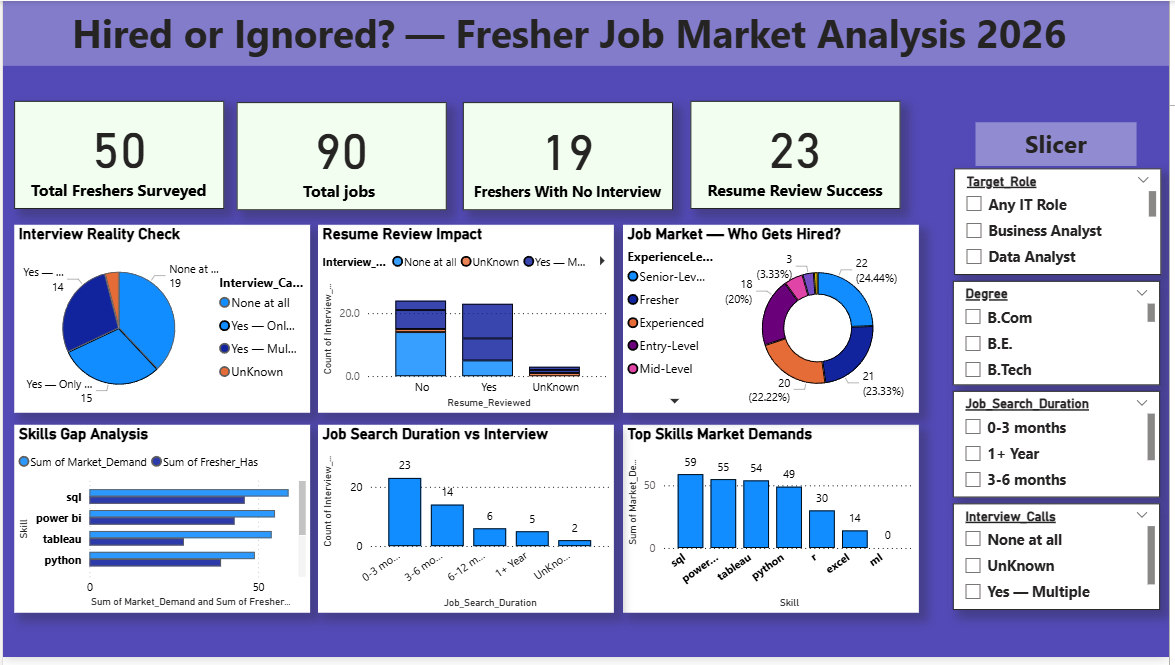

The page's visual inventory and layout, read from the dashboard file:
{"tool":"powerbi","page":{"name":"Page 1","canvas":[1280,720],"ordinal":0},"visuals":[{"type":"textbox","box":[0,0,1280.3,71.4],"z":0},{"type":"pieChart","title":"Interview Reality Check","fields":{"Category":["survey_cleaned.Interview_Calls"],"Y":["CountNonNull(survey_cleaned.Interview_Calls)"]},"box":[11.7,245,325,206.7],"z":1000},{"type":"columnChart","title":"Resume Review Impact","fields":{"Category":["survey_cleaned.Resume_Reviewed"],"Y":["CountNonNull(survey_cleaned.Interview_Calls)"],"Series":["survey_cleaned.Interview_Calls"]},"box":[346.2,245,325,206.2],"z":2000},{"type":"clusteredBarChart","title":"Skills Gap Analysis","fields":{"Category":["skills_gap.Skill"],"Y":["Sum(skills_gap.Market_Demand)","Sum(skills_gap.Fresher_Has)"]},"box":[11.7,465,325,206],"z":3000},{"type":"columnChart","title":"Top Skills Market Demands","fields":{"Category":["skills_gap.Skill"],"Y":["Sum(skills_gap.Market_Demand)"]},"box":[680,465,325,206.2],"z":4000},{"type":"donutChart","title":"Job Market — Who Gets Hired?","fields":{"Category":["jobs_data_roles_cleaned.ExperienceLevel"],"Y":["CountNonNull(jobs_data_roles_cleaned.Title)"]},"box":[680,245,325,206.2],"z":5000},{"type":"columnChart","title":"Job Search Duration vs Interview","fields":{"Category":["survey_cleaned.Job_Search_Duration"],"Y":["CountNonNull(survey_cleaned.Interview_Calls)"]},"box":[346.2,465,325,206.2],"z":6000},{"type":"card","fields":{"Values":["CountNonNull(survey_cleaned.Timestamp)"]},"box":[11.7,110,230,118.3],"z":7000},{"type":"card","fields":{"Values":["CountNonNull(jobs_data_roles_cleaned.Title)"]},"box":[256.7,111.7,230,118.3],"z":8000},{"type":"card","fields":{"Values":["CountNonNull(survey_cleaned.Interview_Calls)"]},"box":[505,111.7,230,118.3],"z":9000},{"type":"card","fields":{"Values":["jobs_data_roles_cleaned.Resume_Yes"]},"box":[755,110,230,118.3],"z":10000},{"type":"slicer","fields":{"Values":["survey_cleaned.Target_Role"]},"box":[1044.3,184.3,227.1,116.4],"z":11000},{"type":"slicer","fields":{"Values":["survey_cleaned.Degree"]},"box":[1042.9,307.1,227.1,114.3],"z":12000},{"type":"slicer","fields":{"Values":["survey_cleaned.Job_Search_Duration"]},"box":[1042.9,428.6,227.1,117.1],"z":13000},{"type":"slicer","fields":{"Values":["survey_cleaned.Interview_Calls"]},"box":[1042.9,551.4,227.1,117.1],"z":15000},{"type":"textbox","box":[1067.1,132.9,176.4,47.9],"z":16000}]}

Visuals, with their boxes in screenshot pixels (x1, y1, x2, y2), scaled from the page's 1280x720 canvas onto the 1175x665 screenshot:
textbox: {"left": 0, "top": 0, "right": 1174, "bottom": 66}
"Interview Reality Check" pieChart: {"left": 11, "top": 226, "right": 309, "bottom": 417}
"Resume Review Impact" columnChart: {"left": 318, "top": 226, "right": 616, "bottom": 417}
"Skills Gap Analysis" clusteredBarChart: {"left": 11, "top": 429, "right": 309, "bottom": 620}
"Top Skills Market Demands" columnChart: {"left": 624, "top": 429, "right": 923, "bottom": 620}
"Job Market — Who Gets Hired?" donutChart: {"left": 624, "top": 226, "right": 923, "bottom": 417}
"Job Search Duration vs Interview" columnChart: {"left": 318, "top": 429, "right": 616, "bottom": 620}
card - CountNonNull(survey_cleaned.Timestamp): {"left": 11, "top": 102, "right": 222, "bottom": 211}
card - CountNonNull(jobs_data_roles_cleaned.Title): {"left": 236, "top": 103, "right": 447, "bottom": 212}
card - CountNonNull(survey_cleaned.Interview_Calls): {"left": 464, "top": 103, "right": 675, "bottom": 212}
card - jobs_data_roles_cleaned.Resume_Yes: {"left": 693, "top": 102, "right": 904, "bottom": 211}
slicer - survey_cleaned.Target_Role: {"left": 959, "top": 170, "right": 1167, "bottom": 278}
slicer - survey_cleaned.Degree: {"left": 957, "top": 284, "right": 1166, "bottom": 389}
slicer - survey_cleaned.Job_Search_Duration: {"left": 957, "top": 396, "right": 1166, "bottom": 504}
slicer - survey_cleaned.Interview_Calls: {"left": 957, "top": 509, "right": 1166, "bottom": 617}
textbox: {"left": 980, "top": 123, "right": 1141, "bottom": 167}
